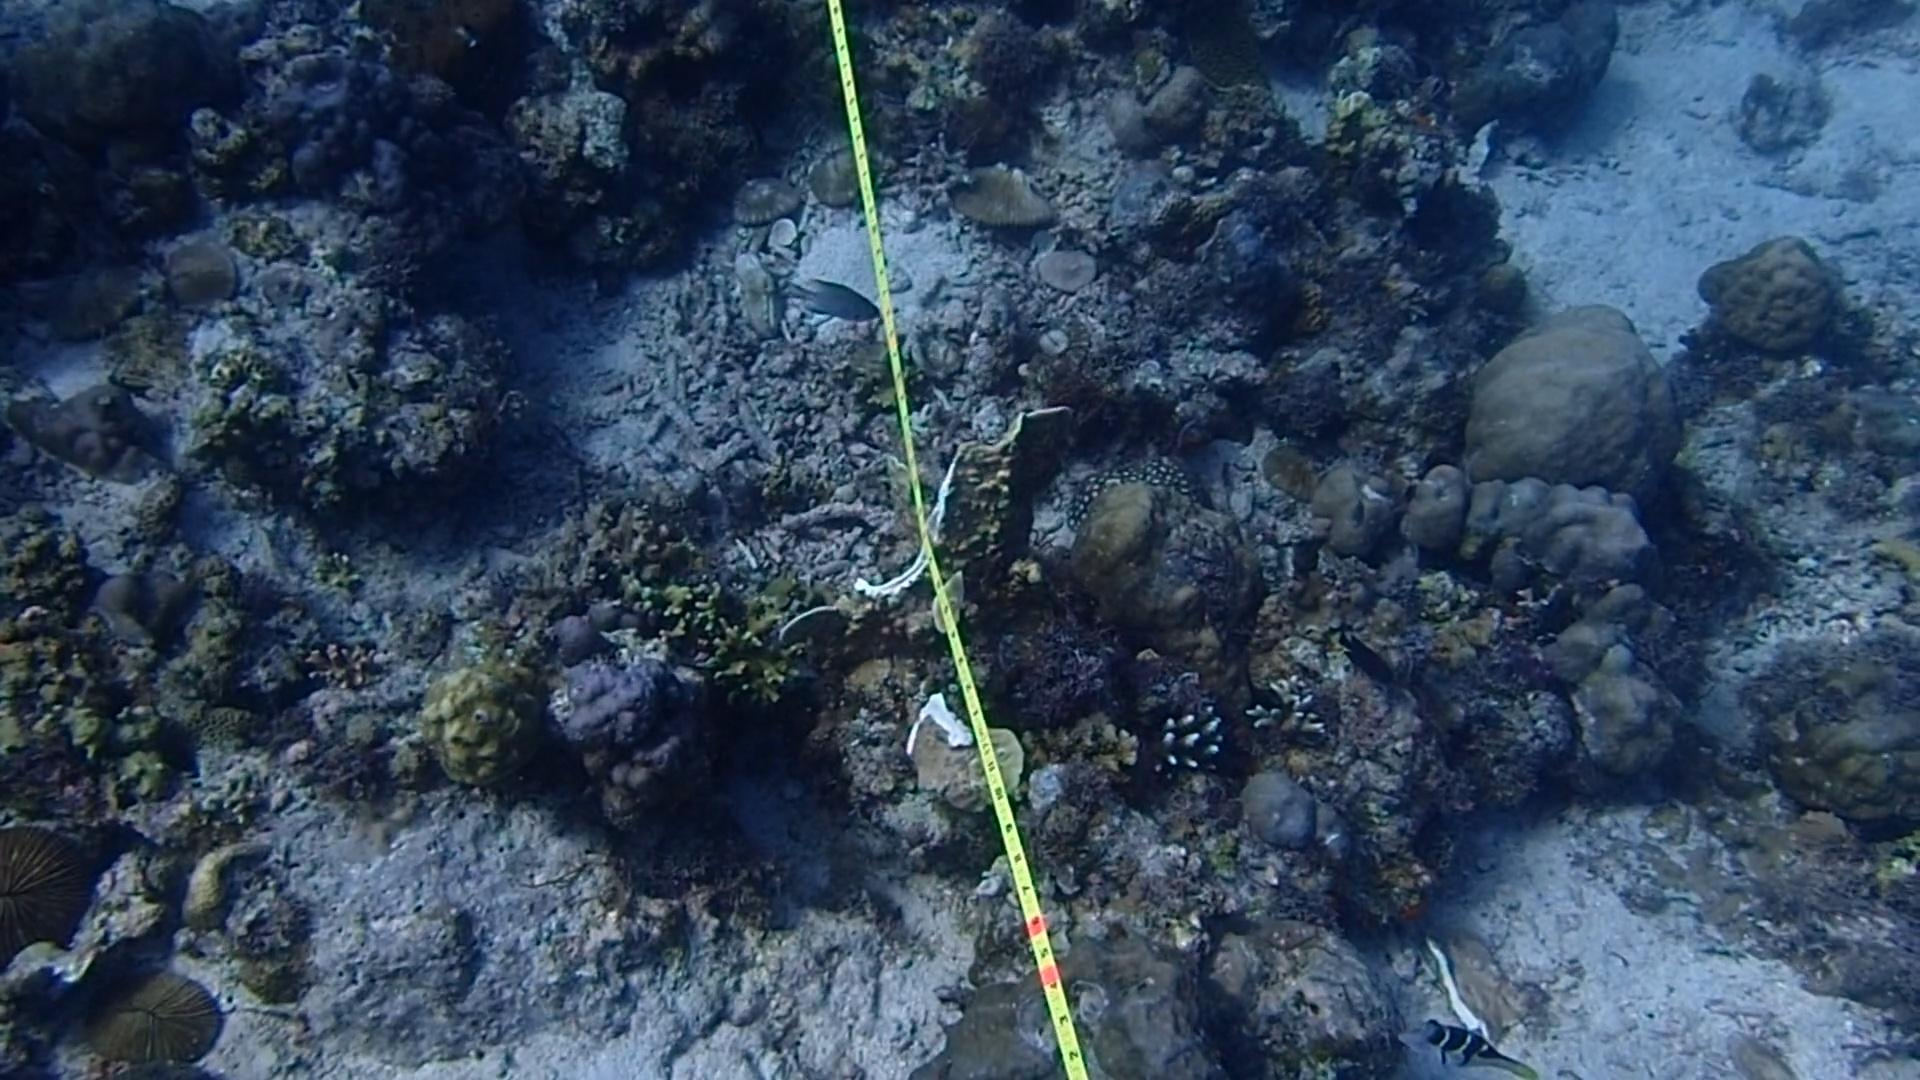Striped Fish: (1412, 1013, 1523, 1080)
